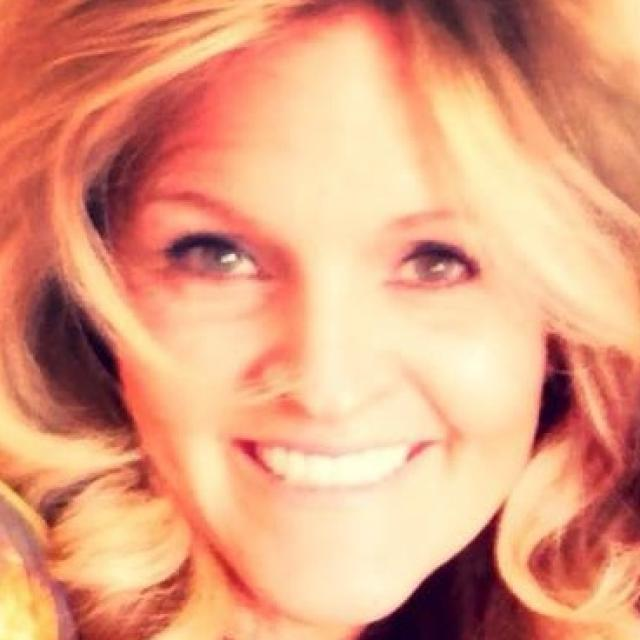Normal: (104, 11, 552, 625)
